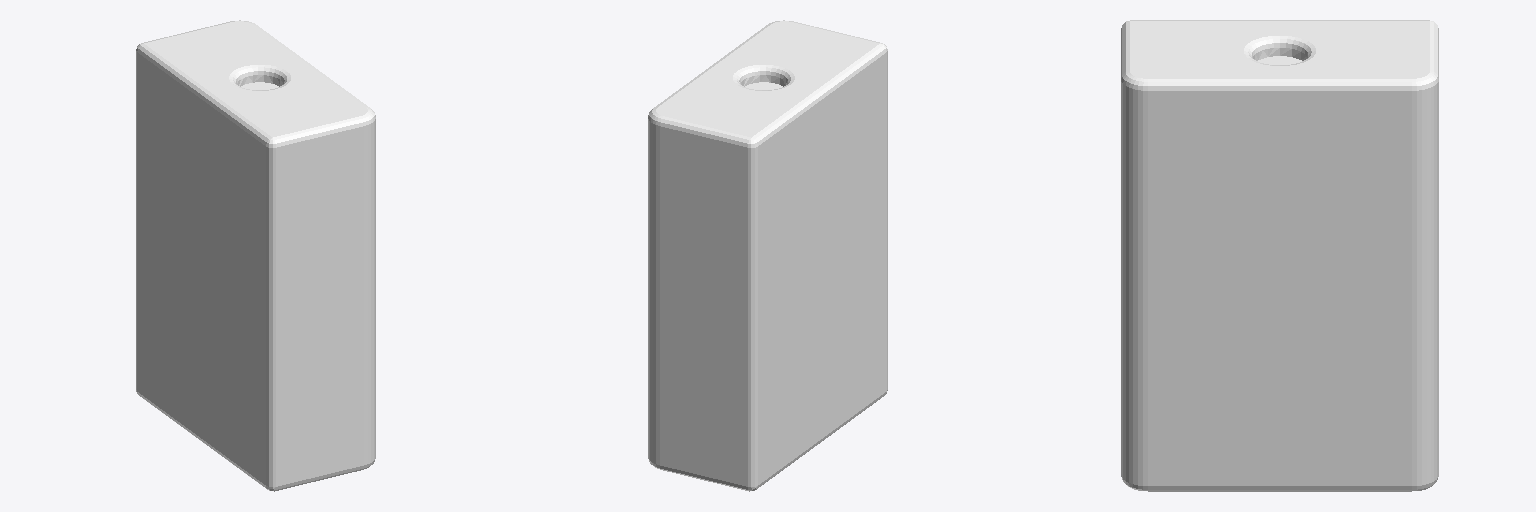
The robot description file, URDF, robot "new":
<?xml version="1.0" encoding="utf-8"?>
<!-- This URDF was automatically created by SolidWorks to URDF Exporter! Originally created by [author] ([email redacted]) 
     Commit Version: 1.6.0-4-g7f85cfe  Build Version: 1.6.7995.38578
     For more information, please see http://wiki.ros.org/sw_urdf_exporter -->
<robot
  name="new">
  <link
    name="base_link">
    <inertial>
      <origin
        xyz="-0.0116818876355917 7.01092598420772E-08 0.0234058269628956"
        rpy="0 0 0" />
      <mass
        value="0.731742119225007" />
      <inertia
        ixx="0.000618543088725781"
        ixy="-5.00747719239916E-09"
        ixz="9.22860188906695E-06"
        iyy="0.00285543341857938"
        iyz="-5.47060646565942E-11"
        izz="0.00312703238532379" />
    </inertial>
    <visual>
      <origin
        xyz="0 0 0"
        rpy="0 0 0" />
      <geometry>
        <mesh
          filename="package://new/meshes/base_link.STL" />
      </geometry>
      <material
        name="">
        <color
          rgba="1 1 1 1" />
      </material>
    </visual>
    <collision>
      <origin
        xyz="0 0 0"
        rpy="0 0 0" />
      <geometry>
        <mesh
          filename="package://new/meshes/base_link.STL" />
      </geometry>
    </collision>
  </link>
  <link
    name="leftleg_ankle_roll_link">
    <inertial>
      <origin
        xyz="0.00534098668644262 -9.02835183228534E-05 -0.0149008783501461"
        rpy="0 0 0" />
      <mass
        value="0.0441079608564007" />
      <inertia
        ixx="4.96686180992153E-06"
        ixy="-1.0217334926255E-20"
        ixz="-2.48027752062387E-07"
        iyy="1.80107506830302E-05"
        iyz="-8.470329472543E-22"
        izz="1.80060344694538E-05" />
    </inertial>
    <visual>
      <origin
        xyz="0 0 0"
        rpy="0 0 0" />
      <geometry>
        <mesh
          filename="package://new/meshes/leftleg_ankle_roll_link.STL" />
      </geometry>
      <material
        name="">
        <color
          rgba="1 1 1 1" />
      </material>
    </visual>
    <collision>
      <origin
        xyz="0 0 0"
        rpy="0 0 0" />
      <geometry>
        <mesh
          filename="package://new/meshes/leftleg_ankle_roll_link.STL" />
      </geometry>
    </collision>
  </link>
  <joint
    name="leftleg_ankle_roll_joint"
    type="revolute">
    <origin
      xyz="-0.061356 9.0284E-05 0.071804"
      rpy="0 0 0" />
    <parent
      link="base_link" />
    <child
      link="leftleg_ankle_roll_link" />
    <axis
      xyz="0.99982 0 0.019011" />
    <limit
      lower="-3.14"
      upper="3.14"
      effort="100"
      velocity="100" />
    <dynamics
      friction="0.1" />
  </joint>
  <link
    name="leftleg_ankle_pitch_link">
    <inertial>
      <origin
        xyz="-0.0225899886477002 0.000242305386593977 0.183573797735377"
        rpy="0 0 0" />
      <mass
        value="3.31591319516436" />
      <inertia
        ixx="0.0281987763709313"
        ixy="3.54454326776873E-07"
        ixz="0.000290652598658862"
        iyy="0.0283818551547026"
        iyz="-5.36658861843972E-06"
        izz="0.00579706768631066" />
    </inertial>
    <visual>
      <origin
        xyz="0 0 0"
        rpy="0 0 0" />
      <geometry>
        <mesh
          filename="package://new/meshes/leftleg_ankle_pitch_link.STL" />
      </geometry>
      <material
        name="">
        <color
          rgba="1 1 1 1" />
      </material>
    </visual>
    <collision>
      <origin
        xyz="0 0 0"
        rpy="0 0 0" />
      <geometry>
        <mesh
          filename="package://new/meshes/leftleg_ankle_pitch_link.STL" />
      </geometry>
    </collision>
  </link>
  <joint
    name="leftleg_ankle_pitch_joint"
    type="revolute">
    <origin
      xyz="-0.00076043 0.00024075 0.039992"
      rpy="0 0 0" />
    <parent
      link="leftleg_ankle_roll_link" />
    <child
      link="leftleg_ankle_pitch_link" />
    <axis
      xyz="0 1 0" />
    <limit
      lower="-3.14"
      upper="3.14"
      effort="100"
      velocity="100" />
    <dynamics
      friction="0.1" />
  </joint>
  <link
    name="leftleg_knee_pitch_link">
    <inertial>
      <origin
        xyz="0.00415681215544494 -0.000328811251191663 0.234511672365745"
        rpy="0 0 0" />
      <mass
        value="6.3468859390397" />
      <inertia
        ixx="0.0796693991537856"
        ixy="1.3884110940587E-07"
        ixz="-0.00108169163816679"
        iyy="0.078962227652445"
        iyz="-3.76461207745454E-08"
        izz="0.0185206661218668" />
    </inertial>
    <visual>
      <origin
        xyz="0 0 0"
        rpy="0 0 0" />
      <geometry>
        <mesh
          filename="package://new/meshes/leftleg_knee_pitch_link.STL" />
      </geometry>
      <material
        name="">
        <color
          rgba="1 1 1 1" />
      </material>
    </visual>
    <collision>
      <origin
        xyz="0 0 0"
        rpy="0 0 0" />
      <geometry>
        <mesh
          filename="package://new/meshes/leftleg_knee_pitch_link.STL" />
      </geometry>
    </collision>
  </link>
  <joint
    name="leftleg_knee_pitch_joint"
    type="revolute">
    <origin
      xyz="-0.011685 0 0.35135"
      rpy="0 0 0" />
    <parent
      link="leftleg_ankle_pitch_link" />
    <child
      link="leftleg_knee_pitch_link" />
    <axis
      xyz="0 1 0" />
    <limit
      lower="-3.14"
      upper="3.14"
      effort="100"
      velocity="100" />
    <dynamics
      friction="0.1" />
  </joint>
  <link
    name="leftleg_hip_roll_link">
    <inertial>
      <origin
        xyz="0.00164548600759334 1.46639749021293E-06 -0.000993016907419264"
        rpy="0 0 0" />
      <mass
        value="0.1845726906535" />
      <inertia
        ixx="6.78556520282021E-05"
        ixy="8.97854924089558E-20"
        ixz="5.70714937327638E-06"
        iyy="0.000381147182635704"
        iyz="2.57498015965307E-19"
        izz="0.000429761131634446" />
    </inertial>
    <visual>
      <origin
        xyz="0 0 0"
        rpy="0 0 0" />
      <geometry>
        <mesh
          filename="package://new/meshes/leftleg_hip_roll_link.STL" />
      </geometry>
      <material
        name="">
        <color
          rgba="1 1 1 1" />
      </material>
    </visual>
    <collision>
      <origin
        xyz="0 0 0"
        rpy="0 0 0" />
      <geometry>
        <mesh
          filename="package://new/meshes/leftleg_hip_roll_link.STL" />
      </geometry>
    </collision>
  </link>
  <joint
    name="leftleg_hip_roll_link"
    type="revolute">
    <origin
      xyz="0.0075716 -0.00018946 0.44894"
      rpy="0 0 0" />
    <parent
      link="leftleg_knee_pitch_link" />
    <child
      link="leftleg_hip_roll_link" />
    <axis
      xyz="0.99984 0 -0.017676" />
    <limit
      lower="-3.14"
      upper="3.14"
      effort="100"
      velocity="100" />
    <dynamics
      friction="0.1" />
  </joint>
  <link
    name="leftleg_hip_pitch_link">
    <inertial>
      <origin
        xyz="1.0769163338864E-14 2.1094237467878E-15 1.77635683940025E-15"
        rpy="0 0 0" />
      <mass
        value="0.0610725611857856" />
      <inertia
        ixx="4.46593103671058E-05"
        ixy="-9.3173624197973E-21"
        ixz="2.5410988417629E-21"
        iyy="6.87066313340089E-06"
        iyz="-2.3928680759934E-20"
        izz="4.46593103671057E-05" />
    </inertial>
    <visual>
      <origin
        xyz="0 0 0"
        rpy="0 0 0" />
      <geometry>
        <mesh
          filename="package://new/meshes/leftleg_hip_pitch_link.STL" />
      </geometry>
      <material
        name="">
        <color
          rgba="1 1 1 1" />
      </material>
    </visual>
    <collision>
      <origin
        xyz="0 0 0"
        rpy="0 0 0" />
      <geometry>
        <mesh
          filename="package://new/meshes/leftleg_hip_pitch_link.STL" />
      </geometry>
    </collision>
  </link>
  <joint
    name="leftleg_hip_pitch_joint"
    type="revolute">
    <origin
      xyz="0.0007079 0.00018946 0.018755"
      rpy="0 0 0" />
    <parent
      link="leftleg_hip_roll_link" />
    <child
      link="leftleg_hip_pitch_link" />
    <axis
      xyz="0 -1 0" />
    <limit
      lower="-3.14"
      upper="3.14"
      effort="100"
      velocity="100" />
    <dynamics
      friction="0.1" />
  </joint>
  <link
    name="leftleg_hip_yaw_link">
    <inertial>
      <origin
        xyz="1.10705888900497E-12 -1.62803104331033E-12 -0.00376650806382672"
        rpy="0 0 0" />
      <mass
        value="0.0624275682819288" />
      <inertia
        ixx="5.40134288941489E-05"
        ixy="5.75982404132924E-20"
        ixz="1.00796920723262E-19"
        iyy="4.44846890990617E-05"
        iyz="2.15146368602592E-19"
        izz="9.3199534965055E-05" />
    </inertial>
    <visual>
      <origin
        xyz="0 0 0"
        rpy="0 0 0" />
      <geometry>
        <mesh
          filename="package://new/meshes/leftleg_hip_yaw_link.STL" />
      </geometry>
      <material
        name="">
        <color
          rgba="1 1 1 1" />
      </material>
    </visual>
    <collision>
      <origin
        xyz="0 0 0"
        rpy="0 0 0" />
      <geometry>
        <mesh
          filename="package://new/meshes/leftleg_hip_yaw_link.STL" />
      </geometry>
    </collision>
  </link>
  <joint
    name="leftleg_hip_yaw_joint"
    type="revolute">
    <origin
      xyz="0 0 0.021287"
      rpy="0 0 0" />
    <parent
      link="leftleg_hip_pitch_link" />
    <child
      link="leftleg_hip_yaw_link" />
    <axis
      xyz="0 0 1" />
    <limit
      lower="-3.14"
      upper="3.14"
      effort="100"
      velocity="100" />
    <dynamics
      friction="0.1" />
  </joint>
  <link
    name="body_link">
    <inertial>
      <origin
        xyz="7.75222588089708E-06 1.88737914186277E-15 -0.0002412331294952"
        rpy="0 0 0" />
      <mass
        value="28.2518829759612" />
      <inertia
        ixx="0.867792910306226"
        ixy="8.32667268468867E-17"
        ixz="-2.39840411104947E-05"
        iyy="0.650336573731394"
        iyz="8.32667268468867E-17"
        izz="0.351973015641288" />
    </inertial>
    <visual>
      <origin
        xyz="0 0 0"
        rpy="0 0 0" />
      <geometry>
        <mesh
          filename="package://new/meshes/body_link.STL" />
      </geometry>
      <material
        name="">
        <color
          rgba="1 1 1 1" />
      </material>
    </visual>
    <collision>
      <origin
        xyz="0 0 0"
        rpy="0 0 0" />
      <geometry>
        <mesh
          filename="package://new/meshes/body_link.STL" />
      </geometry>
    </collision>
  </link>
  <joint
    name="body_joint"
    type="fixed">
    <origin
      xyz="-0.0080688 -0.099502 0.26041"
      rpy="0 0 0" />
    <parent
      link="leftleg_hip_yaw_link" />
    <child
      link="body_link" />
    <axis
      xyz="0 0 0" />
    <limit
      lower="-3.14"
      upper="3.14"
      effort="100"
      velocity="100" />
  </joint>
  <link
    name="rightleg_hip_yaw_link">
    <inertial>
      <origin
        xyz="7.18758386142326E-13 -1.57240886977661E-12 -0.00242650806392009"
        rpy="0 0 0" />
      <mass
        value="0.0624275682819289" />
      <inertia
        ixx="5.40134288941487E-05"
        ixy="2.5410988417629E-20"
        ixz="-2.05829006182795E-19"
        iyy="4.44846890990616E-05"
        iyz="-1.13502414932076E-19"
        izz="9.31995349650551E-05" />
    </inertial>
    <visual>
      <origin
        xyz="0 0 0"
        rpy="0 0 0" />
      <geometry>
        <mesh
          filename="package://new/meshes/rightleg_hip_yaw_link.STL" />
      </geometry>
      <material
        name="">
        <color
          rgba="1 1 1 1" />
      </material>
    </visual>
    <collision>
      <origin
        xyz="0 0 0"
        rpy="0 0 0" />
      <geometry>
        <mesh
          filename="package://new/meshes/rightleg_hip_yaw_link.STL" />
      </geometry>
    </collision>
  </link>
  <joint
    name="rightleg_hip_yaw_joint"
    type="revolute">
    <origin
      xyz="0.0080688 -0.099502 -0.26176"
      rpy="0 0 0" />
    <parent
      link="body_link" />
    <child
      link="rightleg_hip_yaw_link" />
    <axis
      xyz="0 0 1" />
    <limit
      lower="-3.14"
      upper="3.14"
      effort="100"
      velocity="100" />
    <dynamics
      friction="0.1" />
  </joint>
  <link
    name="rightleg_hip_pitch_link">
    <inertial>
      <origin
        xyz="8.60422844084496E-15 7.32747196252603E-15 0"
        rpy="0 0 0" />
      <mass
        value="0.0610725611857856" />
      <inertia
        ixx="4.46593103671057E-05"
        ixy="1.13290656695263E-20"
        ixz="-3.3881317890172E-21"
        iyy="6.87066313340087E-06"
        iyz="-2.94343949170869E-20"
        izz="4.46593103671057E-05" />
    </inertial>
    <visual>
      <origin
        xyz="0 0 0"
        rpy="0 0 0" />
      <geometry>
        <mesh
          filename="package://new/meshes/rightleg_hip_pitch_link.STL" />
      </geometry>
      <material
        name="">
        <color
          rgba="1 1 1 1" />
      </material>
    </visual>
    <collision>
      <origin
        xyz="0 0 0"
        rpy="0 0 0" />
      <geometry>
        <mesh
          filename="package://new/meshes/rightleg_hip_pitch_link.STL" />
      </geometry>
    </collision>
  </link>
  <joint
    name="rightleg_hip_pitch_joint"
    type="revolute">
    <origin
      xyz="0 0 -0.019947"
      rpy="0 0 0" />
    <parent
      link="rightleg_hip_yaw_link" />
    <child
      link="rightleg_hip_pitch_link" />
    <axis
      xyz="0 1 0" />
    <limit
      lower="-3.14"
      upper="3.14"
      effort="100"
      velocity="100" />
    <dynamics
      friction="0.1" />
  </joint>
  <link
    name="rightleg_hip_roll_link">
    <inertial>
      <origin
        xyz="-0.00146983193940786 -0.00014411233548034 -0.209549098893664"
        rpy="0 0 0" />
      <mass
        value="6.22473913252929" />
      <inertia
        ixx="0.0793481942166928"
        ixy="1.43391407519001E-07"
        ixz="-0.000474510892639116"
        iyy="0.0789484540905304"
        iyz="-3.56918242860188E-08"
        izz="0.0181685526452989" />
    </inertial>
    <visual>
      <origin
        xyz="0 0 0"
        rpy="0 0 0" />
      <geometry>
        <mesh
          filename="package://new/meshes/rightleg_hip_roll_link.STL" />
      </geometry>
      <material
        name="">
        <color
          rgba="1 1 1 1" />
      </material>
    </visual>
    <collision>
      <origin
        xyz="0 0 0"
        rpy="0 0 0" />
      <geometry>
        <mesh
          filename="package://new/meshes/rightleg_hip_roll_link.STL" />
      </geometry>
    </collision>
  </link>
  <joint
    name="rightleg_hip_roll_joint"
    type="revolute">
    <origin
      xyz="-0.00030002 -0.00027972 -0.018763"
      rpy="0 0 0" />
    <parent
      link="rightleg_hip_pitch_link" />
    <child
      link="rightleg_hip_roll_link" />
    <axis
      xyz="0.99997 0 -0.0077504" />
    <limit
      lower="-3.14"
      upper="3.14"
      effort="100"
      velocity="100" />
    <dynamics
      friction="0.1" />
  </joint>
  <link
    name="rightleg_knee_pitch_link">
    <inertial>
      <origin
        xyz="-0.0096986059737077 -0.00131480612986534 -0.159764616616645"
        rpy="0 0 0" />
      <mass
        value="3.39383535014518" />
      <inertia
        ixx="0.0285124697608549"
        ixy="3.9013698794276E-07"
        ixz="0.000442442566920362"
        iyy="0.0283906444253166"
        iyz="-5.3595125068973E-06"
        izz="0.00612068881321176" />
    </inertial>
    <visual>
      <origin
        xyz="0 0 0"
        rpy="0 0 0" />
      <geometry>
        <mesh
          filename="package://new/meshes/rightleg_knee_pitch_link.STL" />
      </geometry>
      <material
        name="">
        <color
          rgba="1 1 1 1" />
      </material>
    </visual>
    <collision>
      <origin
        xyz="0 0 0"
        rpy="0 0 0" />
      <geometry>
        <mesh
          filename="package://new/meshes/rightleg_knee_pitch_link.STL" />
      </geometry>
    </collision>
  </link>
  <joint
    name="rightleg_knee_pitch_joint"
    type="revolute">
    <origin
      xyz="-0.0033299 0.00027972 -0.44899"
      rpy="0 0 0" />
    <parent
      link="rightleg_hip_roll_link" />
    <child
      link="rightleg_knee_pitch_link" />
    <axis
      xyz="0 -1 0" />
    <limit
      lower="-3.14"
      upper="3.14"
      effort="100"
      velocity="100" />
    <dynamics
      friction="0.1" />
  </joint>
  <link
    name="rightleg_ankle_pitch_link">
    <inertial>
      <origin
        xyz="0.00060182729798397 -0.0016357189785085 -0.0149879219341014"
        rpy="0 0 0" />
      <mass
        value="0.0441079608564007" />
      <inertia
        ixx="1.80107506830303E-05"
        ixy="7.6762360844921E-21"
        ixz="-1.48230765769503E-21"
        iyy="4.96214559634508E-06"
        iyz="-2.5410988417629E-21"
        izz="1.80107506830303E-05" />
    </inertial>
    <visual>
      <origin
        xyz="0 0 0"
        rpy="0 0 0" />
      <geometry>
        <mesh
          filename="package://new/meshes/rightleg_ankle_pitch_link.STL" />
      </geometry>
      <material
        name="">
        <color
          rgba="1 1 1 1" />
      </material>
    </visual>
    <collision>
      <origin
        xyz="0 0 0"
        rpy="0 0 0" />
      <geometry>
        <mesh
          filename="package://new/meshes/rightleg_ankle_pitch_link.STL" />
      </geometry>
    </collision>
  </link>
  <joint
    name="rightleg_ankle_pitch_joint"
    type="continuous">
    <origin
      xyz="0.014105 0 -0.35127"
      rpy="0 0 0" />
    <parent
      link="rightleg_knee_pitch_link" />
    <child
      link="rightleg_ankle_pitch_link" />
    <axis
      xyz="0 1 0" />
    <limit
      lower="-3.14"
      upper="3.14"
      effort="100"
      velocity="100" />
    <dynamics
      friction="0.1" />
  </joint>
  <link
    name="rightleg_ankle_roll_link">
    <inertial>
      <origin
        xyz="0.0534423290065599 -4.00333034780709E-05 -0.0461784362223794"
        rpy="0 0 0" />
      <mass
        value="0.775850080799985" />
      <inertia
        ixx="0.000623478044856561"
        ixy="-5.00853813042212E-09"
        ixz="-4.52755928004222E-07"
        iyy="0.00287344418037216"
        iyz="-7.16505141893156E-11"
        izz="0.00314507033120543" />
    </inertial>
    <visual>
      <origin
        xyz="0 0 0"
        rpy="0 0 0" />
      <geometry>
        <mesh
          filename="package://new/meshes/rightleg_ankle_roll_link.STL" />
      </geometry>
      <material
        name="">
        <color
          rgba="1 1 1 1" />
      </material>
    </visual>
    <collision>
      <origin
        xyz="0 0 0"
        rpy="0 0 0" />
      <geometry>
        <mesh
          filename="package://new/meshes/rightleg_ankle_roll_link.STL" />
      </geometry>
    </collision>
  </link>
  <joint
    name="rightleg_ankle_roll_joint"
    type="revolute">
    <origin
      xyz="-0.0051976 -0.0010466 -0.040126"
      rpy="0 0 0" />
    <parent
      link="rightleg_ankle_pitch_link" />
    <child
      link="rightleg_ankle_roll_link" />
    <axis
      xyz="0.99974 0 0.022752" />
    <limit
      lower="-3.14"
      upper="3.14"
      effort="100"
      velocity="100" />
    <dynamics
      friction="0.1" />
  </joint>
</robot>

--- What the picture shows (computed from the rendered views, not written in the file) ---
The picture shows the robot from 3 angles, left to right: view 1: azimuth 30°, elevation 25°; view 2: azimuth 150°, elevation 25°; view 3: azimuth 270°, elevation 25°; orthographic projection.
Model new with 14 links and 13 joints (11 revolute, 1 continuous, 1 fixed), rooted at base_link, posed every joint at zero.
Links seen in each view (by area): view 1: body_link; view 2: body_link; view 3: body_link.
Boxes of the visible links, box(x1,y1,x2,y2) form: body_link: box(136, 20, 375, 491); body_link: box(648, 20, 887, 491); body_link: box(1121, 20, 1438, 491).
Bounding box of the posed robot: 0.17 × 0.35 × 0.5 m (x, y, z).
1 mesh visuals loaded from 14 distinct referenced files (1 binary STL); not drawn: 13 (reference not matched to a file when rendering).